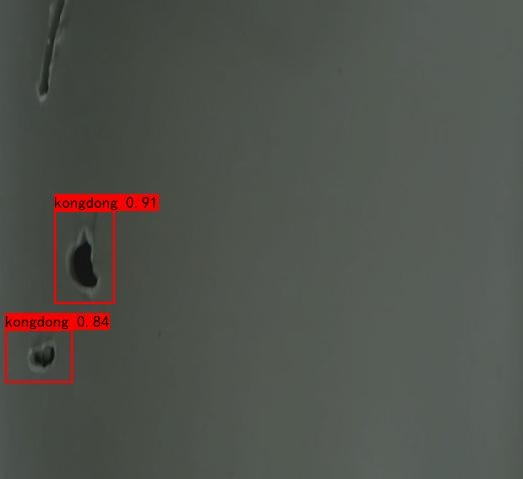fengxi: (28, 1, 76, 104)
kongdong: (60, 221, 103, 298), (20, 340, 62, 376)
